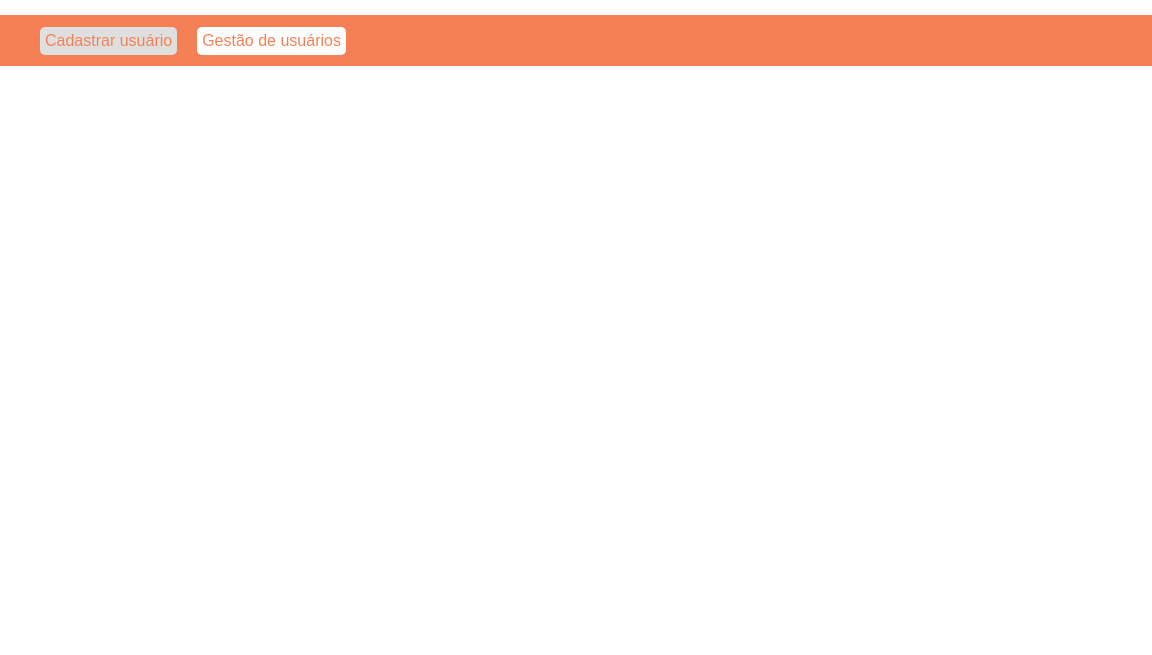
Test: Tests Header › should render Header component and click in the link Cadastrar usuário
Click the link "Cadastrar usuário" at (109,41), box [40,27,177,55]
(page scrolled)
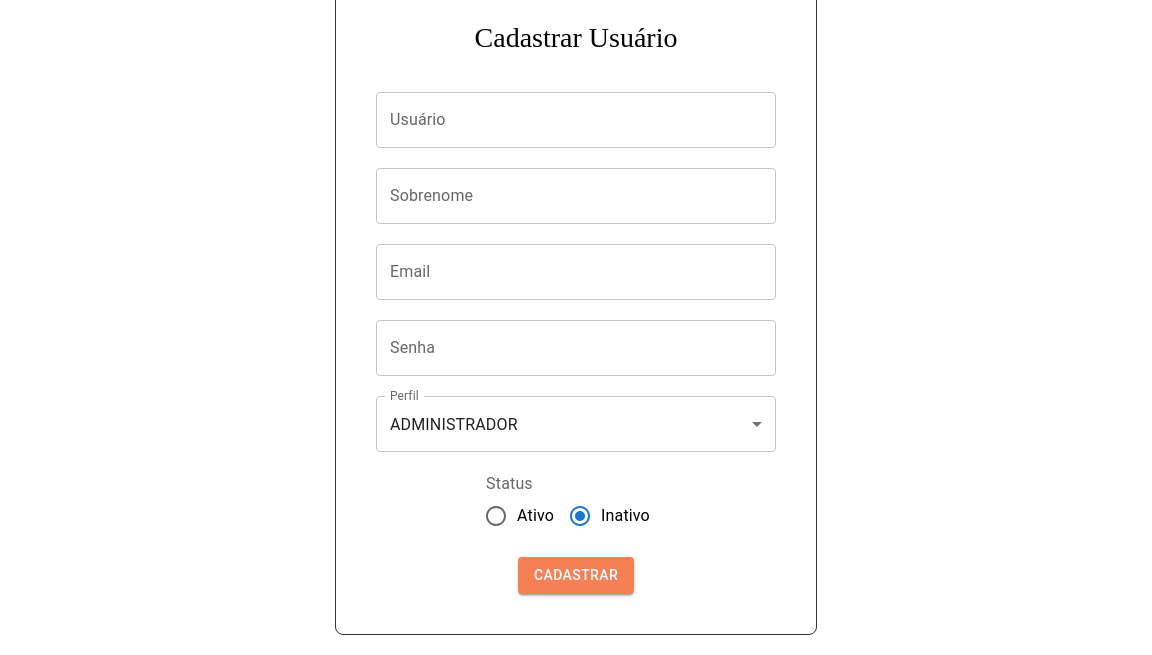
Result: the button "Cadastrar" is shown at [518,557,634,594]
